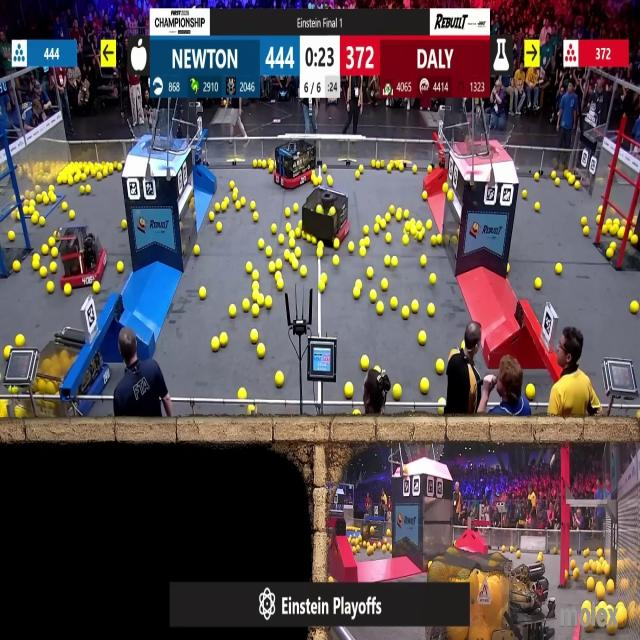ball_ground: (617, 610, 628, 630), (596, 586, 606, 600), (345, 383, 354, 398), (526, 385, 535, 400), (606, 623, 616, 636), (421, 378, 429, 394), (276, 372, 284, 388), (360, 356, 369, 370), (419, 332, 427, 347), (393, 384, 401, 399), (256, 344, 264, 358), (587, 576, 595, 590), (438, 359, 445, 374), (250, 329, 258, 342), (243, 300, 251, 313), (605, 582, 613, 595), (219, 335, 227, 348), (14, 409, 23, 420), (266, 295, 273, 309), (212, 338, 219, 352), (15, 336, 23, 348), (630, 302, 638, 314), (412, 302, 420, 314), (401, 307, 409, 319), (4, 346, 11, 359), (252, 305, 259, 318), (0, 406, 7, 419), (238, 388, 247, 398), (32, 261, 40, 272), (276, 280, 284, 291), (631, 236, 639, 247), (312, 175, 320, 186), (556, 264, 563, 276), (534, 278, 541, 290), (200, 287, 207, 299), (428, 304, 434, 318), (94, 282, 101, 294), (12, 262, 19, 274), (603, 564, 610, 576), (353, 288, 361, 298), (438, 236, 446, 246), (65, 284, 72, 295), (46, 282, 53, 293), (369, 290, 376, 301), (390, 297, 397, 308), (116, 263, 123, 274), (299, 267, 306, 278), (276, 261, 283, 272), (619, 228, 626, 239), (318, 282, 325, 293), (571, 568, 578, 579), (378, 304, 384, 316), (366, 268, 372, 280), (382, 279, 388, 291), (231, 306, 237, 318), (267, 247, 274, 257), (49, 264, 56, 274), (420, 256, 427, 266), (291, 262, 298, 272), (359, 238, 366, 248), (606, 249, 613, 259), (348, 243, 355, 253), (316, 248, 323, 258), (247, 406, 254, 416), (270, 264, 276, 275), (429, 274, 435, 285), (70, 210, 76, 221), (40, 268, 46, 279), (403, 221, 409, 232), (355, 280, 362, 289), (331, 255, 338, 264), (284, 208, 291, 217), (584, 600, 591, 609), (389, 206, 396, 215), (411, 224, 418, 233), (381, 220, 388, 229), (363, 224, 369, 234), (258, 240, 264, 250), (386, 234, 392, 244), (192, 246, 198, 256), (272, 223, 278, 233), (42, 245, 48, 255), (294, 248, 300, 258), (50, 247, 56, 257), (384, 256, 390, 266), (402, 236, 408, 246), (391, 256, 397, 266), (246, 264, 252, 274), (403, 210, 409, 220), (426, 219, 432, 229), (120, 219, 126, 229), (335, 240, 341, 250), (236, 202, 242, 212), (252, 212, 258, 222), (284, 250, 290, 260), (418, 232, 424, 242), (584, 225, 590, 235), (32, 214, 38, 224), (278, 236, 284, 246), (257, 293, 263, 303), (448, 190, 454, 200), (396, 212, 402, 222), (252, 270, 258, 280), (50, 193, 56, 203), (583, 216, 589, 226), (33, 195, 39, 205), (588, 624, 594, 634), (599, 601, 606, 609), (431, 236, 436, 247), (250, 202, 256, 211), (8, 233, 14, 242), (216, 222, 222, 231), (289, 239, 295, 248), (360, 247, 366, 256), (62, 203, 68, 212), (39, 217, 45, 226), (601, 224, 607, 233), (372, 224, 378, 233), (252, 282, 258, 291), (68, 176, 74, 185), (80, 173, 86, 182), (307, 235, 313, 244), (43, 197, 49, 206), (568, 176, 574, 185), (286, 223, 292, 232), (24, 207, 30, 216), (74, 174, 80, 183), (58, 175, 64, 184), (327, 176, 332, 186), (234, 190, 239, 200), (317, 242, 324, 249), (276, 272, 282, 280), (460, 342, 466, 350), (422, 191, 428, 199), (609, 242, 615, 250), (48, 239, 54, 247), (439, 409, 445, 417), (9, 386, 15, 394), (355, 172, 361, 180), (214, 204, 220, 212), (228, 184, 234, 192), (293, 205, 299, 213), (87, 185, 93, 193), (252, 161, 258, 169), (295, 220, 301, 228), (564, 569, 570, 577), (537, 554, 543, 562), (263, 159, 269, 167), (321, 274, 326, 283), (534, 203, 539, 212), (444, 183, 449, 192), (294, 230, 299, 239), (79, 185, 84, 194), (386, 213, 391, 222), (417, 220, 422, 229), (574, 181, 579, 190), (596, 216, 602, 223), (354, 411, 360, 418), (598, 207, 604, 214), (523, 189, 528, 197), (413, 167, 418, 175), (534, 173, 539, 181), (241, 199, 246, 207), (570, 560, 575, 568), (552, 172, 557, 180), (517, 552, 522, 560), (48, 184, 53, 192), (119, 162, 124, 170), (98, 172, 103, 180), (370, 162, 375, 170), (367, 546, 372, 554), (269, 166, 274, 174), (14, 212, 19, 220), (210, 212, 214, 221), (440, 398, 446, 404), (322, 166, 327, 173), (222, 199, 227, 206), (328, 576, 333, 583), (556, 178, 560, 186), (428, 166, 432, 174), (312, 237, 316, 245), (377, 215, 381, 223), (399, 165, 403, 173), (386, 546, 390, 554), (388, 166, 392, 173), (359, 166, 363, 173), (387, 529, 391, 536), (568, 550, 572, 557), (506, 266, 509, 275), (554, 547, 558, 553)
goal: (461, 118, 516, 158), (128, 116, 186, 152)
robot_blue: (34, 326, 113, 416)
robot_red: (506, 554, 556, 637), (57, 225, 106, 287), (303, 188, 350, 243), (273, 140, 317, 191), (361, 520, 383, 546)
